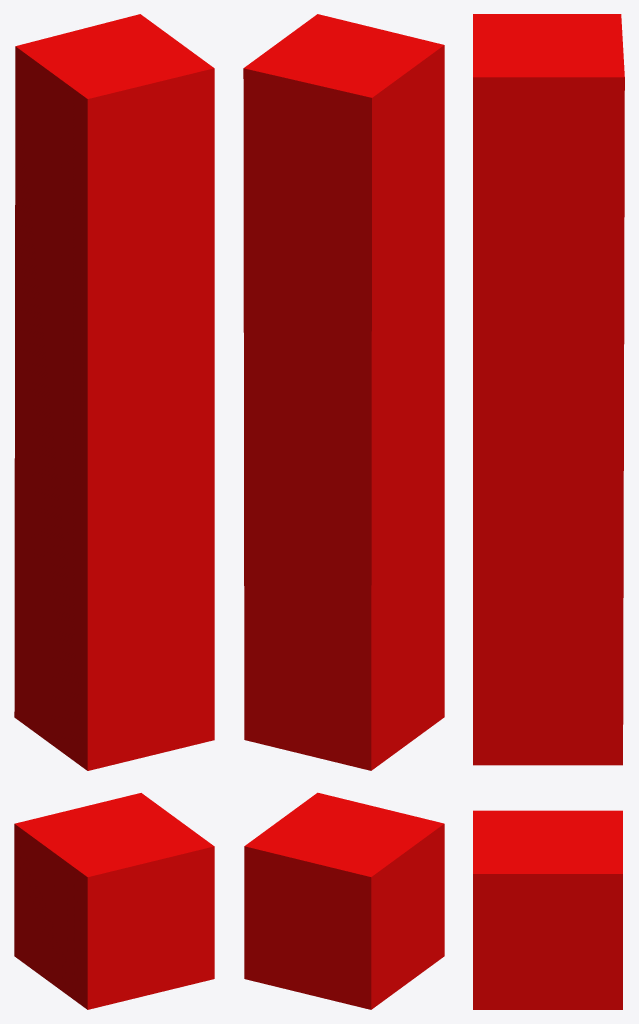
File: wykrzyknik.obj
3 views of the same model, side by side, from view 1: azimuth 30°, elevation 25°; view 2: azimuth 150°, elevation 25°; view 3: azimuth 270°, elevation 25° (orthographic). The views are drawn at different scales.
Visible parts, largest first — view 1: Cube.001; view 2: Cube.001; view 3: Cube.001.
Part boxes in pixels (x1,y1,x2,y2): Cube.001: (14,14,214,1009); Cube.001: (243,14,444,1009); Cube.001: (473,14,624,1009).
Size of the model in its own units: 0.25 by 1.72 by 0.253.
1 material, 1 textured.
